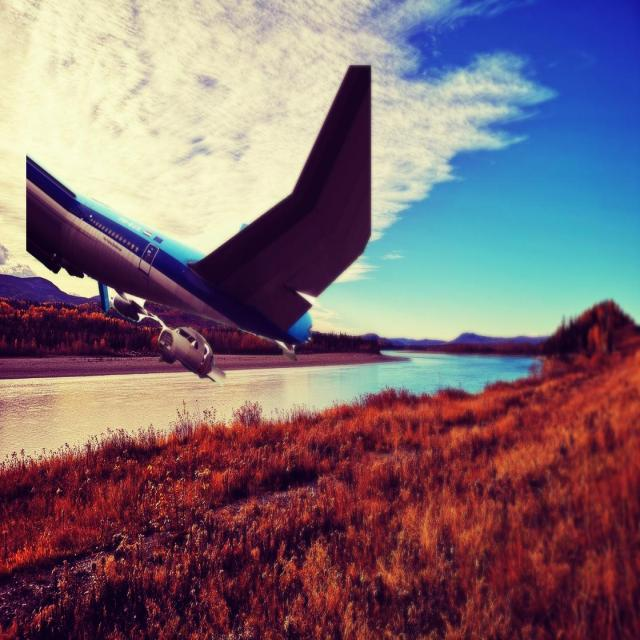airplane: (25, 63, 372, 385)
